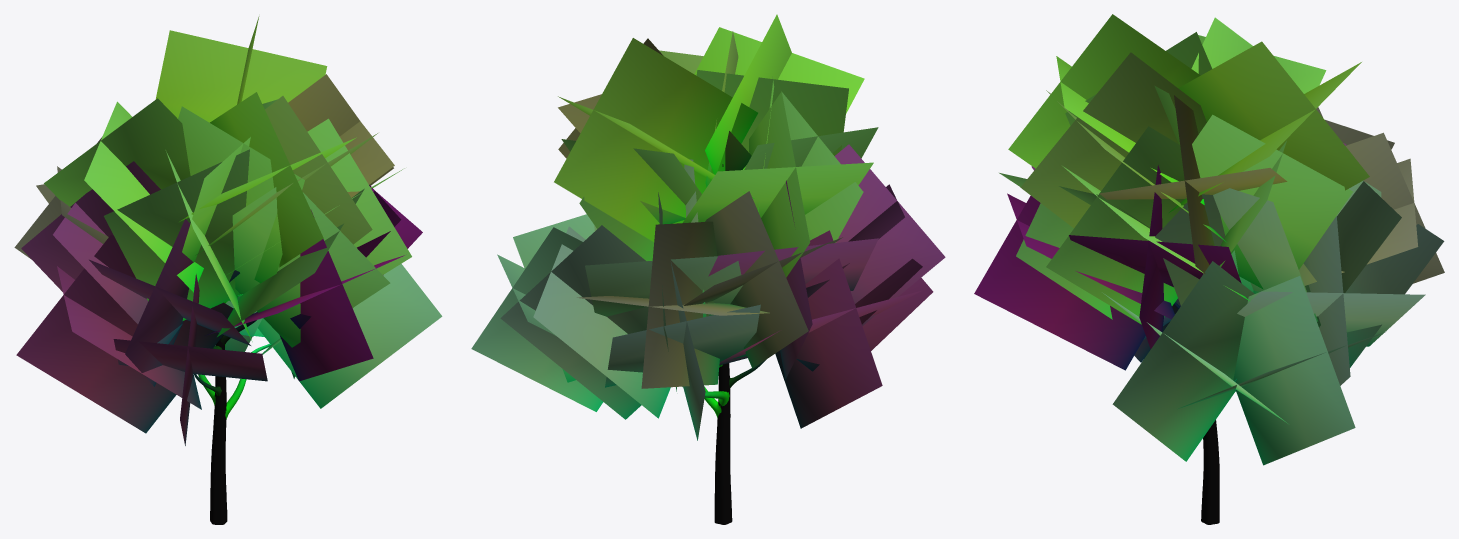
The model's file is URP_P12_Tree_13_LOD_0.fbx.
3 renders of one model, left to right at view 1: azimuth 30°, elevation 25°; view 2: azimuth 150°, elevation 25°; view 3: azimuth 270°, elevation 25°, orthographic. The views are drawn at different scales.
Parts seen in each view (by area): view 1: Tree_13_LOD_0; view 2: Tree_13_LOD_0; view 3: Tree_13_LOD_0.
Part boxes in pixels (<box>): Tree_13_LOD_0: <box>14,16,442,524</box>; Tree_13_LOD_0: <box>471,14,945,524</box>; Tree_13_LOD_0: <box>974,14,1444,524</box>.
Bounding box in the file's own units: 183 × 219 × 182.
